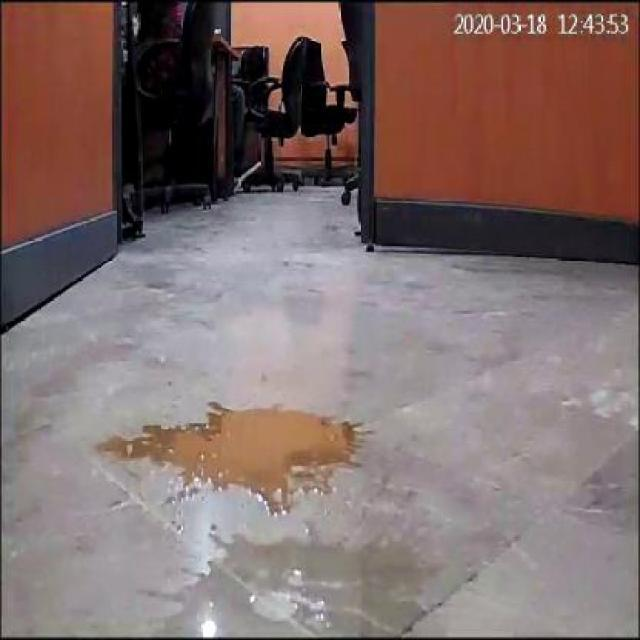spill: (144, 508, 448, 636), (95, 394, 377, 508)
